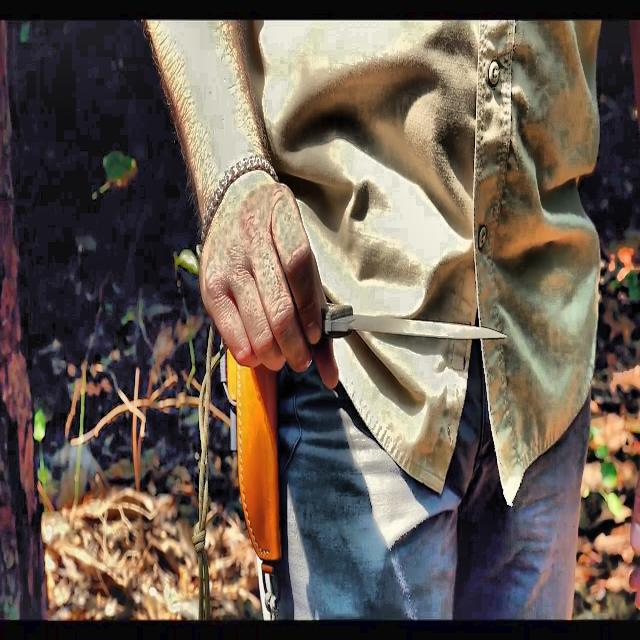knife: (319, 306, 508, 340)
